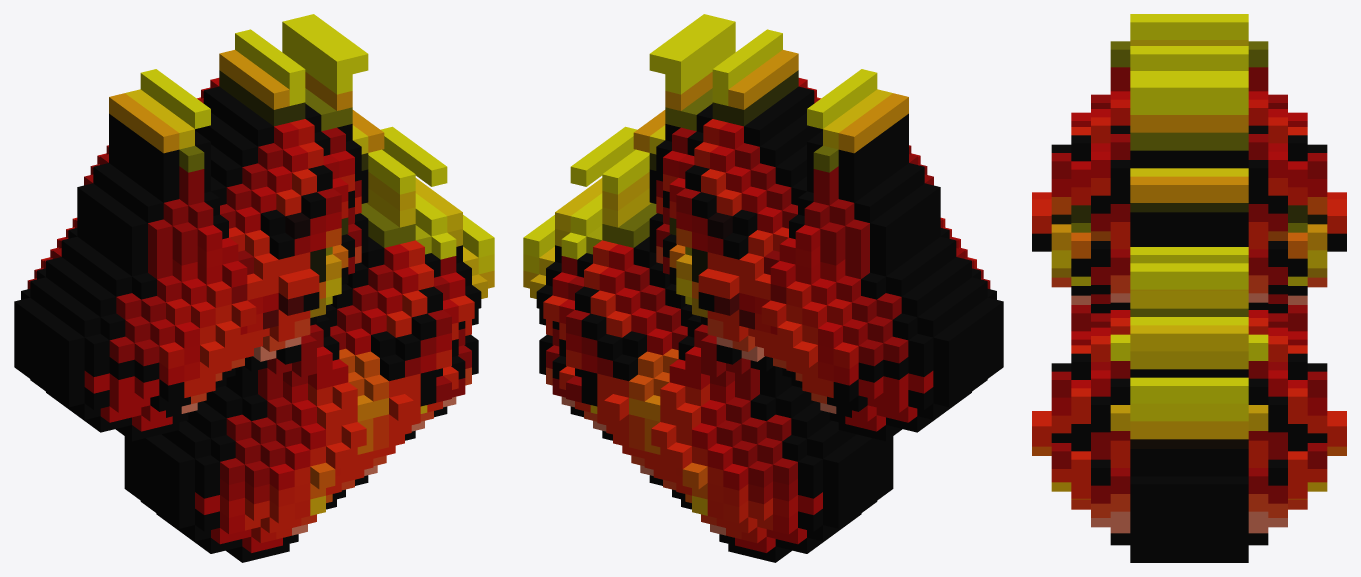
Rendered from glovesofsun.glb.
The picture shows the model from 3 angles, left to right: view 1: azimuth 30°, elevation 25°; view 2: azimuth 150°, elevation 25°; view 3: azimuth 270°, elevation 25°; orthographic projection. The views are drawn at different scales.
Bounding box in the file's own units: 0.8438 × 0.9062 × 0.5.
